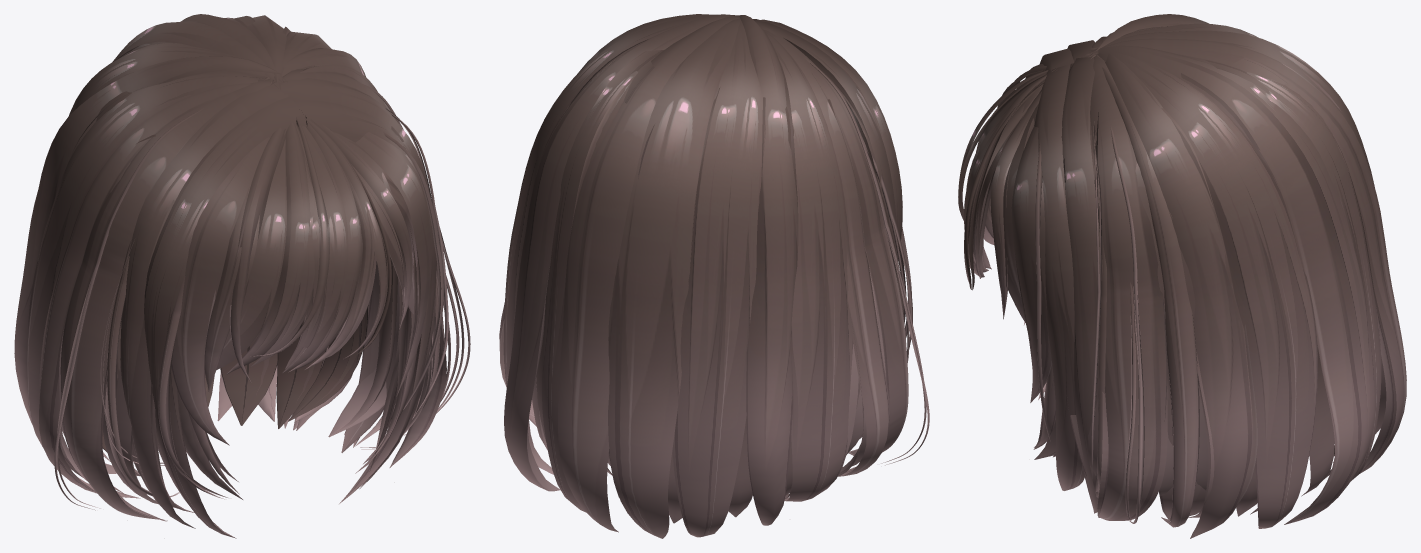
File: vroid_hair_c9.glb
The picture shows the model from 3 angles, left to right: view 1: azimuth 30°, elevation 25°; view 2: azimuth 150°, elevation 25°; view 3: azimuth 270°, elevation 25°; orthographic projection. The views are drawn at different scales.
Parts seen in each view (by area): view 1: part; view 2: part; view 3: part.
Boxes of the visible parts, box(x1,y1,x2,y2) form: part: box(14, 14, 470, 538); part: box(499, 14, 929, 538); part: box(958, 14, 1406, 538).
Size of the model in its own units: 0.2663 by 0.2731 by 0.2494.
2 materials, 2 textured.
